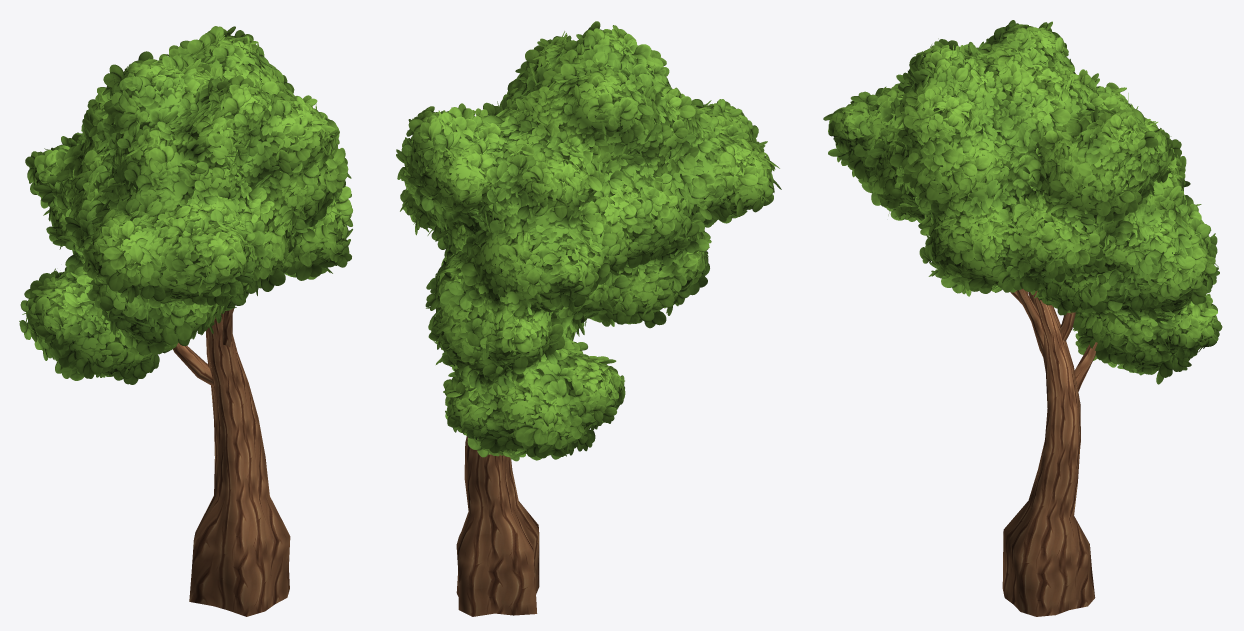
The model's file is ash_v2.gltf.
3 views of the same model, side by side, from view 1: azimuth 30°, elevation 25°; view 2: azimuth 150°, elevation 25°; view 3: azimuth 270°, elevation 25° (orthographic). The views are drawn at different scales.
Visible parts, largest first — view 1: ash_v2_leaves_LOD0, ash_v2_volume_LOD0, ash_v2_trunk_LOD0; view 2: ash_v2_leaves_LOD0, ash_v2_volume_LOD0, ash_v2_trunk_LOD0; view 3: ash_v2_leaves_LOD0, ash_v2_volume_LOD0, ash_v2_trunk_LOD0.
Part boxes in pixels (left/top/right/bottom): ash_v2_leaves_LOD0: left=19, top=26, right=352, bottom=384; ash_v2_volume_LOD0: left=28, top=36, right=344, bottom=372; ash_v2_trunk_LOD0: left=173, top=308, right=290, bottom=616; ash_v2_leaves_LOD0: left=396, top=21, right=781, bottom=461; ash_v2_volume_LOD0: left=406, top=37, right=770, bottom=451; ash_v2_trunk_LOD0: left=456, top=436, right=539, bottom=616; ash_v2_leaves_LOD0: left=823, top=20, right=1222, bottom=384; ash_v2_volume_LOD0: left=833, top=31, right=1211, bottom=368; ash_v2_trunk_LOD0: left=1002, top=288, right=1097, bottom=616.
Size of what is drawn, in the model's own units: 6.59 by 11.42 by 7.95.
3 materials, 3 textured.
